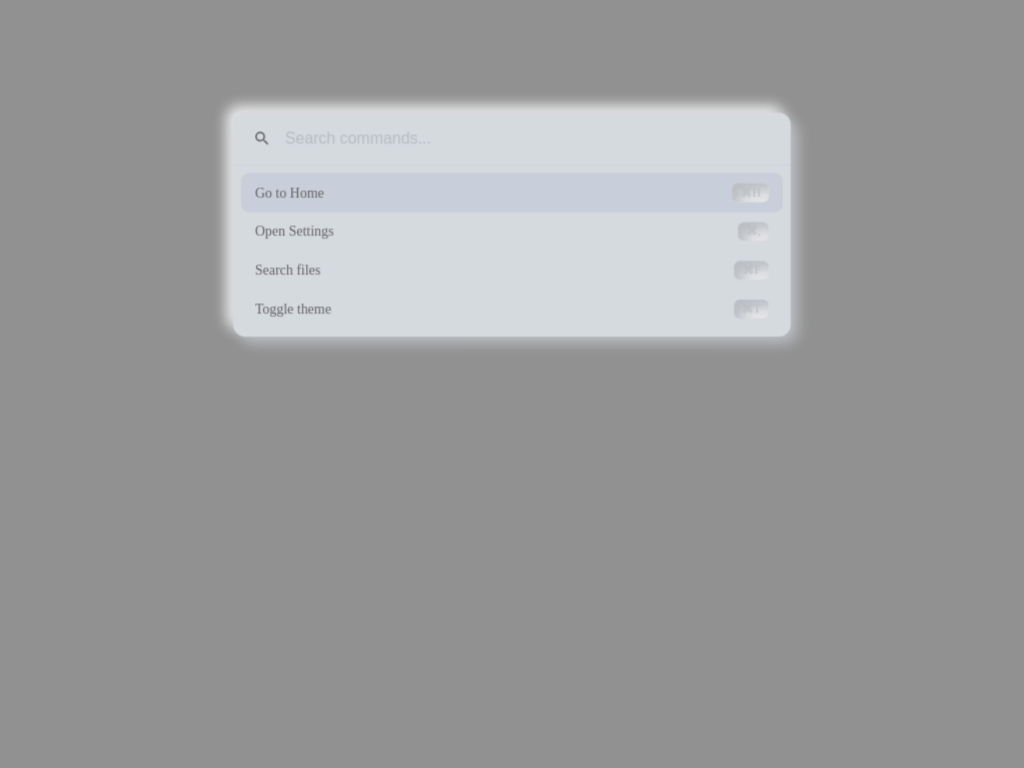
Test: CommandPalette › 5. filters results when typing in the search input
Step 1. Type "sett" into the field → {"x": 527, "y": 139}, box 283,129 -> 771,149
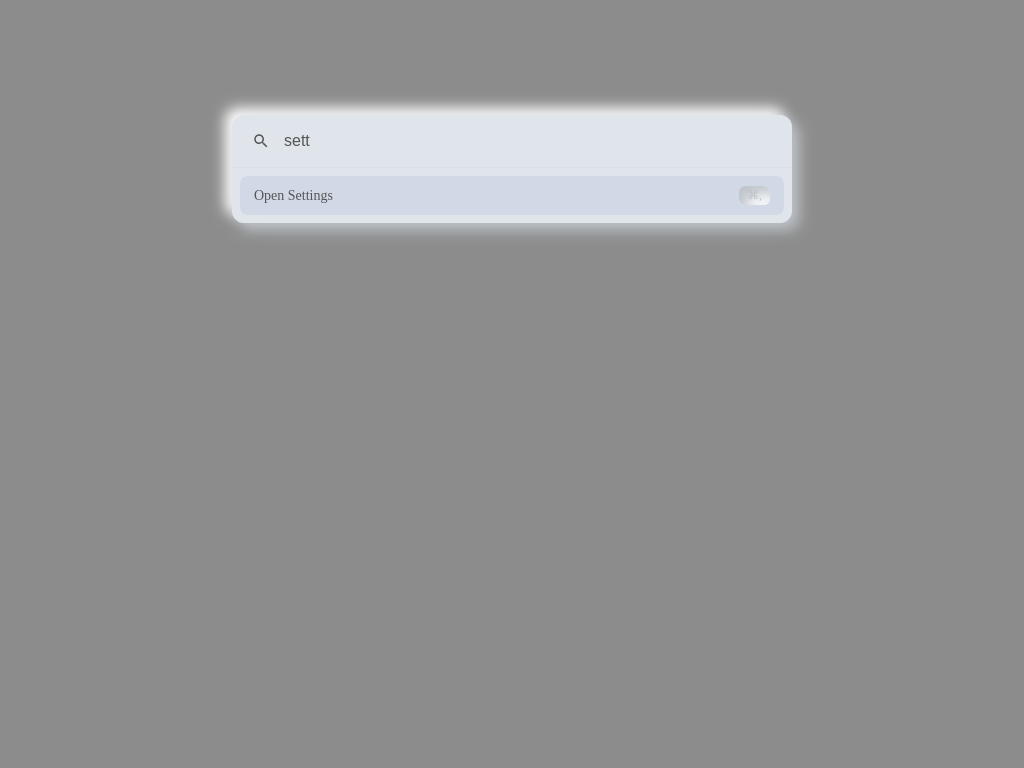
Expected: the option "Open Settings ⌘," is shown, 240,176 -> 784,215
Result: the option "Go to Home" is gone
